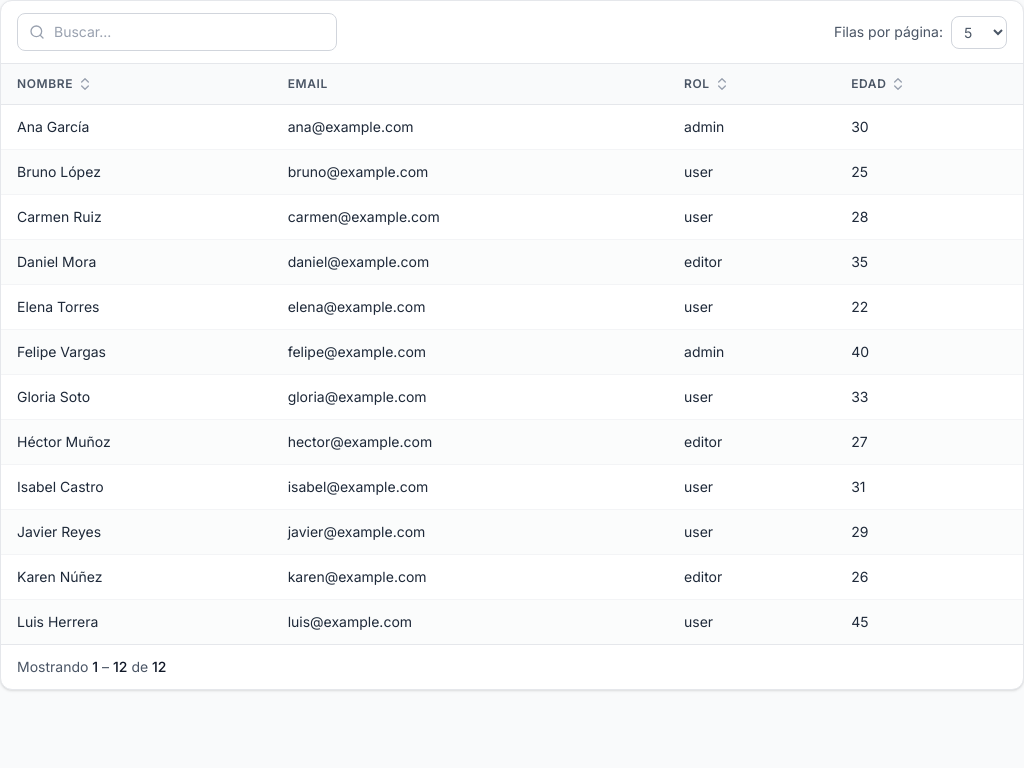
Test: DataTable — Ordenación de columnas › invierte a descendente al hacer doble clic en el mismo encabezado
Click the column heading "Nombre": (45, 84) [1, 64, 272, 104]
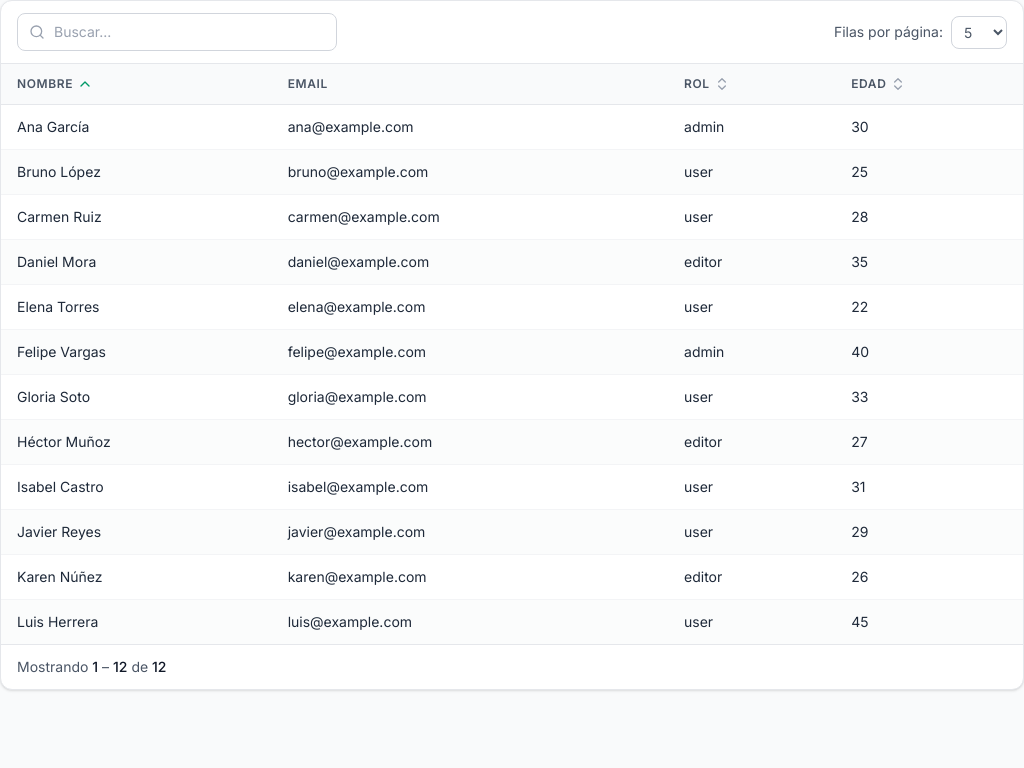
Click the column heading "Nombre": (45, 84) [1, 64, 272, 104]
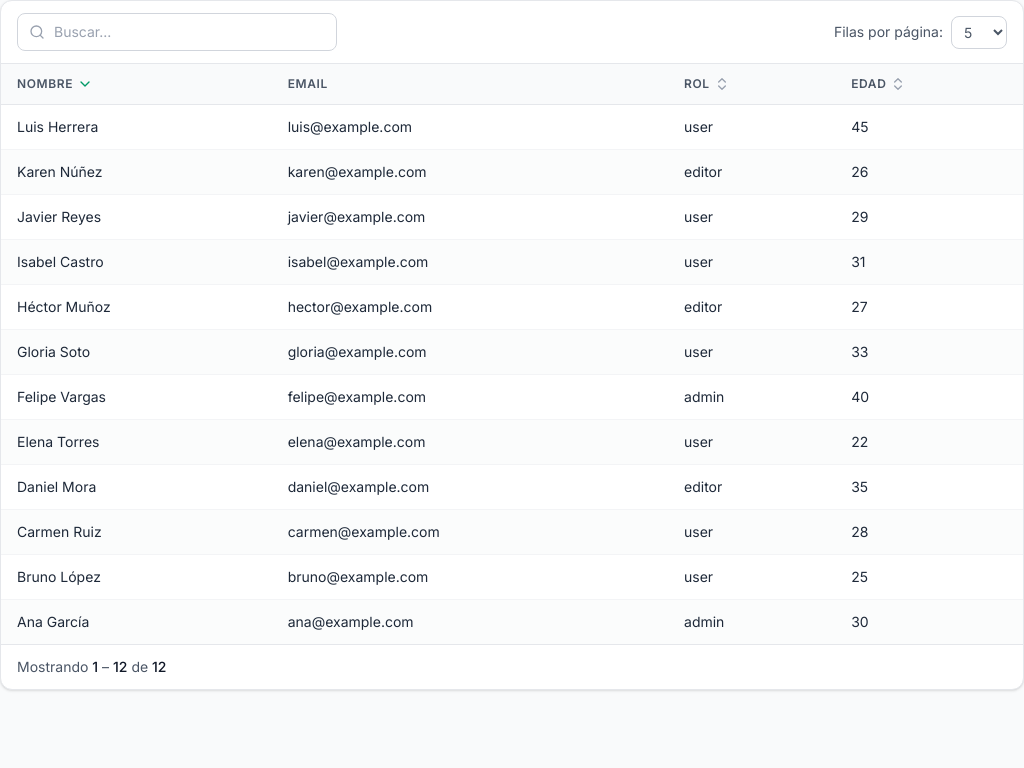
Expected: the text "Luis Herrera" is shown, [1, 104, 272, 150]
